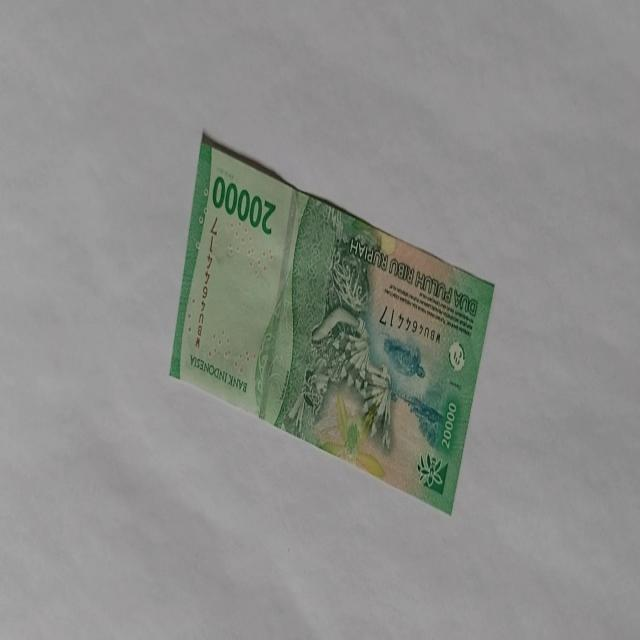dua puluh ribu rupiah: (168, 129, 496, 516)
